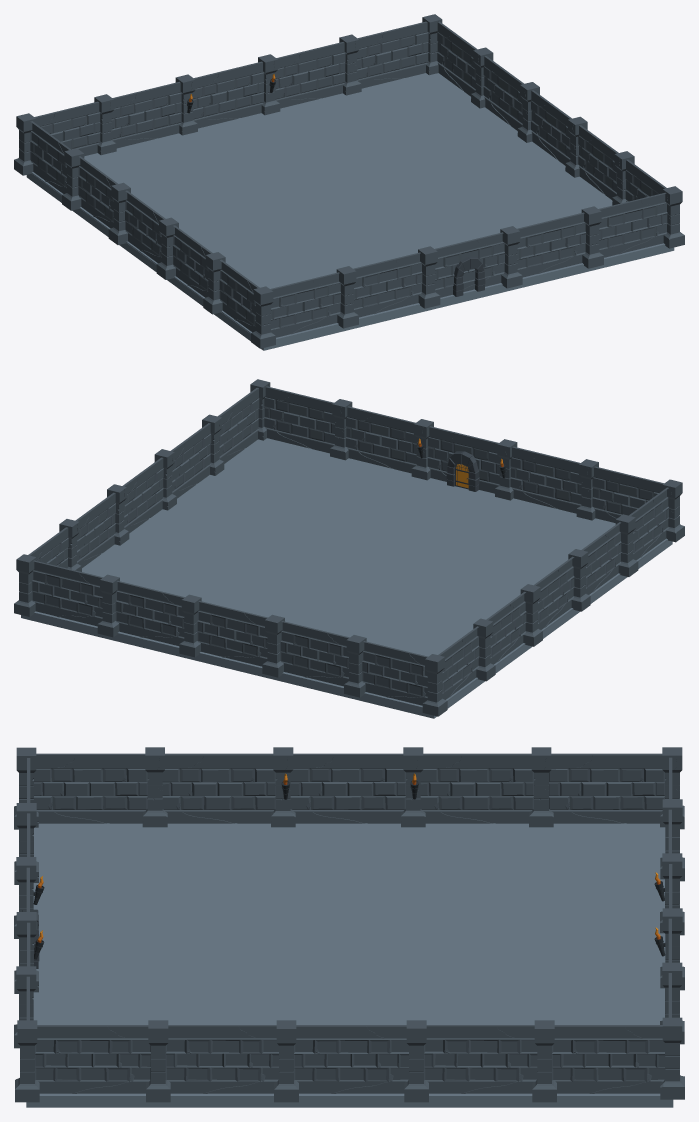
File: RoomB.obj
3 renders of one model, top to bottom at view 1: azimuth 30°, elevation 25°; view 2: azimuth 150°, elevation 25°; view 3: azimuth 270°, elevation 25°, orthographic. The views are drawn at different scales.
Parts seen in each view (by area): view 1: Cube.275, Pillar+Wall.032, Pillar+Wall.035, Pillar+Wall.033, Pillar+Wall.034, Arch.020; view 2: Cube.275, Pillar+Wall.035, Pillar+Wall.032, Pillar+Wall.033, Pillar+Wall.034, Arch.020; view 3: Cube.275, Pillar+Wall.034, Pillar+Wall.033, Pillar+Wall.035, Pillar+Wall.032.
Boxes of the visible parts, <box> form: Cube.275: <box>26,73,674,350</box>; Pillar+Wall.032: <box>251,192,667,348</box>; Pillar+Wall.035: <box>34,14,442,156</box>; Pillar+Wall.033: <box>14,113,259,333</box>; Pillar+Wall.034: <box>437,21,684,248</box>; Arch.020: <box>453,257,485,296</box>; Cube.275: <box>21,438,672,718</box>; Pillar+Wall.035: <box>14,554,427,705</box>; Pillar+Wall.032: <box>264,386,684,542</box>; Pillar+Wall.033: <box>422,487,669,716</box>; Pillar+Wall.034: <box>28,379,270,571</box>; Arch.020: <box>446,451,479,491</box>; Cube.275: <box>26,823,673,1107</box>; Pillar+Wall.034: <box>15,1020,664,1102</box>; Pillar+Wall.033: <box>34,747,684,829</box>; Pillar+Wall.035: <box>660,757,684,1099</box>; Pillar+Wall.032: <box>14,747,38,1048</box>.
Size of the model in its own units: 25.94 by 3.51 by 25.93.
Materials: 1 (1 with a texture image).
